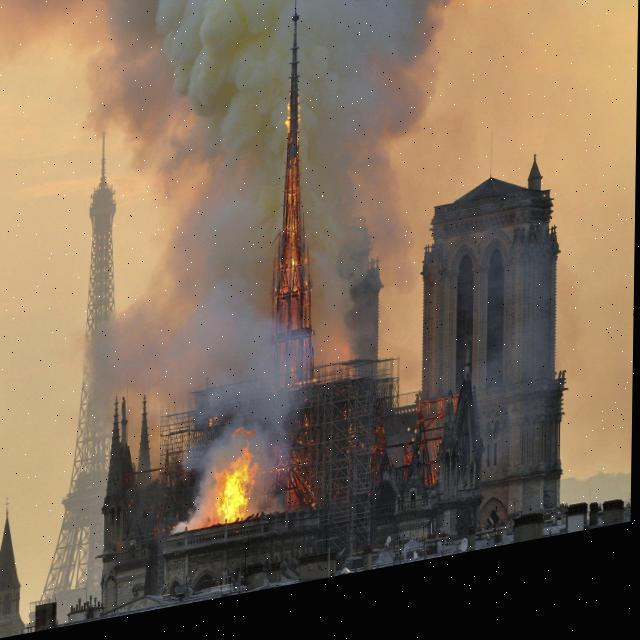Fire: (204, 74, 321, 546)
